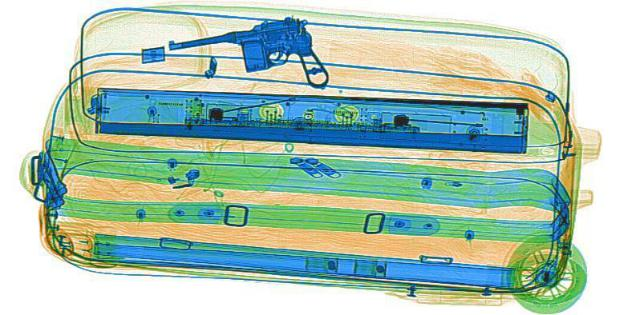Gun: (156, 12, 356, 105)
